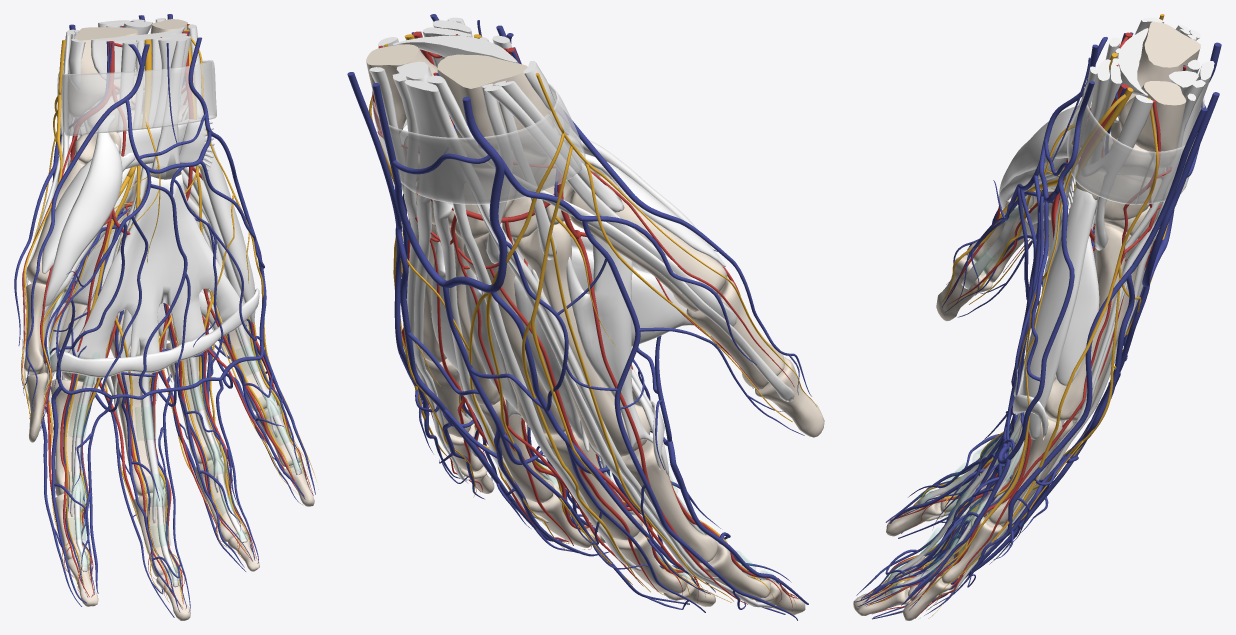
Rendered from hand-anatomy.glb.
3 views of the same model, side by side, from view 1: azimuth 30°, elevation 25°; view 2: azimuth 150°, elevation 25°; view 3: azimuth 270°, elevation 25° (orthographic). The views are drawn at different scales.
Visible parts, largest first — view 1: Aponeurosis palmaris, Palmar venous network of hand, Flexor retinaculum of wrist, Palmal digital veins, Flexor digitorum superficialis humeral head, Abductor pollicis brevis, Flexor digitorum profundus, Palmar metacarpal veins, Superficial transverse metacarpal ligament, Proper palmar digital arteries, Dorsal digital veins, Abductor digiti minimi (+51 smaller); view 2: Extensor digitorum, Extensor retinaculum of wrist, Dorsal digital veins, Dorsal metatarsal veins, Radial nerve Dorsal digital nn, 1st dorsal interosseus of hand, Dorsal venous network of hand, 2nd metacarpal bone, Radius, Extensor pollicis longus, 1st metacarpal bone, Adductor pollicis (+41 smaller); view 3: Palmar venous network of hand, Abductor digiti minimi, Palmal digital veins, Flexor retinaculum of wrist, Dorsal digital veins, 5th metacarpal bone, Ulna, Opponens digiti minimi muscle of hand, Radius, Common tendon of flexor carpi ulnaris, Ulnar nerve Dorsal cutaneous br, Dorsal metatarsal veins (+37 smaller).
Boxes of the visible parts, x1,y1,x2,y2 form: Aponeurosis palmaris: (68, 174, 243, 358); Palmar venous network of hand: (36, 43, 266, 399); Flexor retinaculum of wrist: (60, 60, 216, 136); Palmal digital veins: (23, 268, 315, 612); Flexor digitorum superficialis humeral head: (69, 36, 279, 523); Abductor pollicis brevis: (42, 115, 122, 306); Flexor digitorum profundus: (71, 33, 301, 587); Palmar metacarpal veins: (40, 218, 313, 609); Superficial transverse metacarpal ligament: (45, 288, 259, 391); Proper palmar digital arteries: (64, 304, 313, 607); Dorsal digital veins: (14, 273, 309, 617); Abductor digiti minimi: (199, 130, 255, 325); Extensor digitorum: (404, 80, 718, 580); Extensor retinaculum of wrist: (372, 99, 581, 204); Dorsal digital veins: (399, 298, 804, 620); Dorsal metatarsal veins: (394, 215, 720, 449); Radial nerve Dorsal digital nn: (469, 132, 816, 602); 1st dorsal interosseus of hand: (566, 233, 653, 447); Dorsal venous network of hand: (365, 116, 580, 292); 2nd metacarpal bone: (512, 223, 650, 456); Radius: (437, 54, 553, 158); Extensor pollicis longus: (426, 75, 794, 401); 1st metacarpal bone: (568, 174, 727, 311); Adductor pollicis: (517, 222, 695, 346); Palmar venous network of hand: (997, 57, 1090, 464); Abductor digiti minimi: (1022, 188, 1096, 439); Palmal digital veins: (853, 180, 1017, 606); Flexor retinaculum of wrist: (1067, 84, 1155, 204); Dorsal digital veins: (872, 240, 1103, 619); 5th metacarpal bone: (1044, 222, 1129, 420); Ulna: (1119, 81, 1186, 168); Opponens digiti minimi muscle of hand: (1055, 236, 1099, 385); Radius: (1117, 21, 1200, 117); Common tendon of flexor carpi ulnaris: (1080, 94, 1153, 250); Ulnar nerve Dorsal cutaneous br: (893, 98, 1158, 618); Dorsal metatarsal veins: (1075, 265, 1149, 448).
Size of the model in its own units: 0.1097 by 0.1855 by 0.1028.
